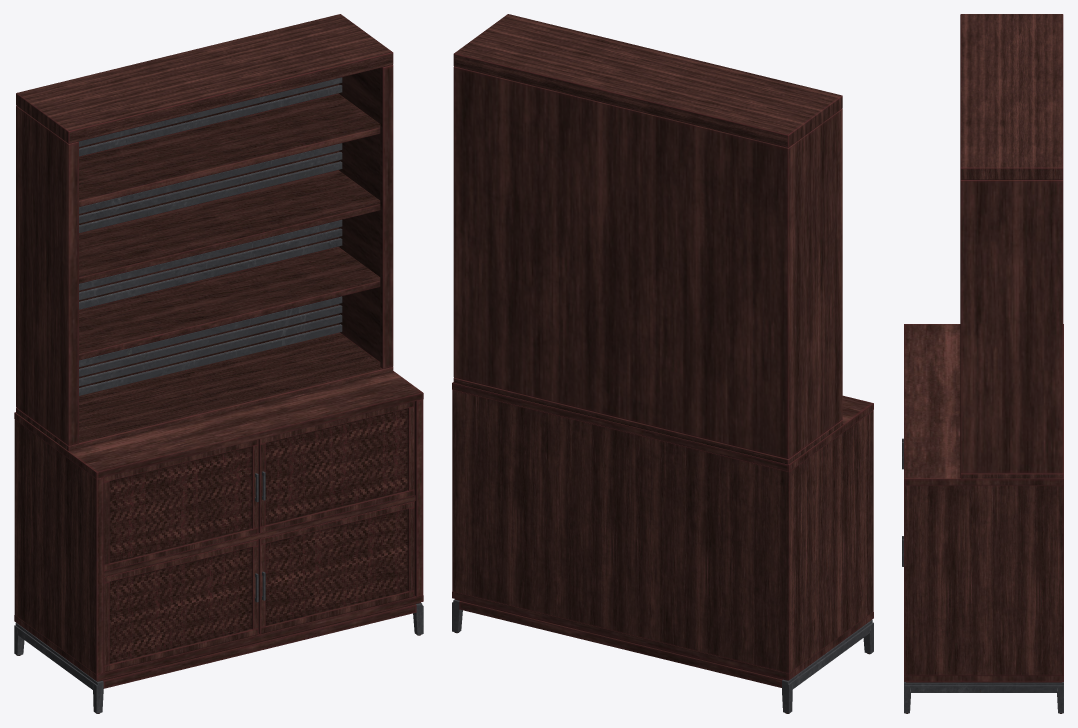
The model's file is Dark Wooden Cabinet.fbx.
3 views of the same model, side by side, from view 1: azimuth 30°, elevation 25°; view 2: azimuth 150°, elevation 25°; view 3: azimuth 270°, elevation 25° (orthographic). The views are drawn at different scales.
Parts seen in each view (by area): view 1: ShelfCabinet_Top, ShelfCabinet_Bot, ShelfCabinet_Bot.004, ShelfCabinet_Bot.003, ShelfCabinet_Bot.001, ShelfCabinet_Bot.002; view 2: ShelfCabinet_Top, ShelfCabinet_Bot; view 3: ShelfCabinet_Top, ShelfCabinet_Bot.
Boxes of the visible parts, left/top/right/bottom form: ShelfCabinet_Top: left=16, top=14, right=393, bottom=450; ShelfCabinet_Bot: left=14, top=371, right=423, bottom=713; ShelfCabinet_Bot.004: left=258, top=501, right=414, bottom=633; ShelfCabinet_Bot.003: left=103, top=539, right=258, bottom=671; ShelfCabinet_Bot.001: left=258, top=401, right=414, bottom=533; ShelfCabinet_Bot.002: left=103, top=439, right=258, bottom=571; ShelfCabinet_Top: left=453, top=14, right=842, bottom=464; ShelfCabinet_Bot: left=452, top=382, right=873, bottom=713; ShelfCabinet_Top: left=960, top=14, right=1063, bottom=478; ShelfCabinet_Bot: left=904, top=324, right=1063, bottom=713.
Size of the model in its own units: 109 by 179 by 48.05.
Materials: 2 (2 with a texture image).
